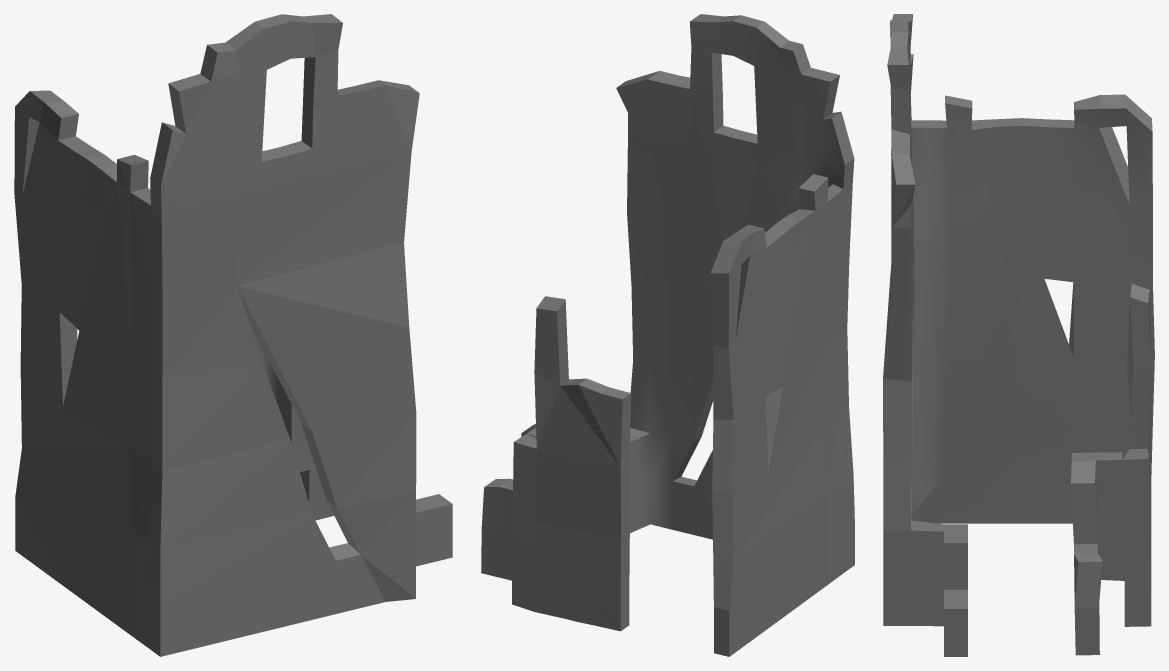
The model's file is DefenceCapRuins.fbx.
3 renders of one model, left to right at view 1: azimuth 30°, elevation 25°; view 2: azimuth 150°, elevation 25°; view 3: azimuth 270°, elevation 25°, orthographic. The views are drawn at different scales.
Visible parts, largest first — view 1: Defense Cap Ruin; view 2: Defense Cap Ruin; view 3: Defense Cap Ruin.
Part boxes in pixels (bbox=[...]): Defense Cap Ruin: bbox=[14, 14, 452, 656]; Defense Cap Ruin: bbox=[481, 14, 854, 656]; Defense Cap Ruin: bbox=[883, 14, 1154, 656].
Bounding box in the file's own units: 63.99 × 115 × 52.31.
